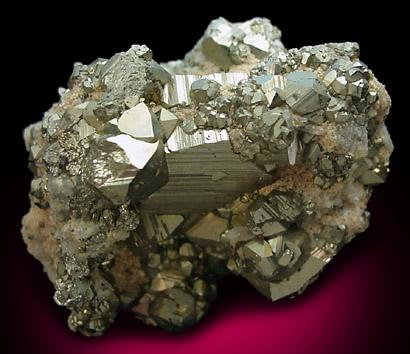pyrite: (141, 43, 369, 218), (184, 186, 332, 300), (78, 103, 169, 206)
